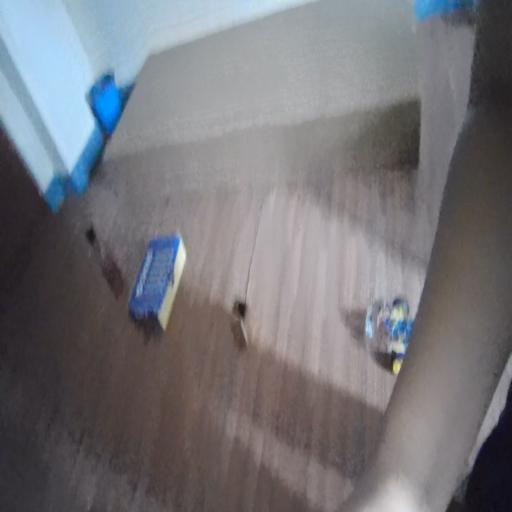Bottle: (83, 216, 127, 302)
car: (366, 277, 407, 366)
